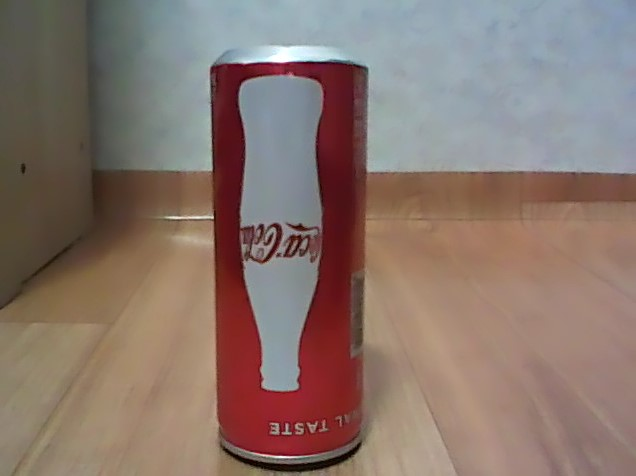Can: (206, 40, 374, 471)
